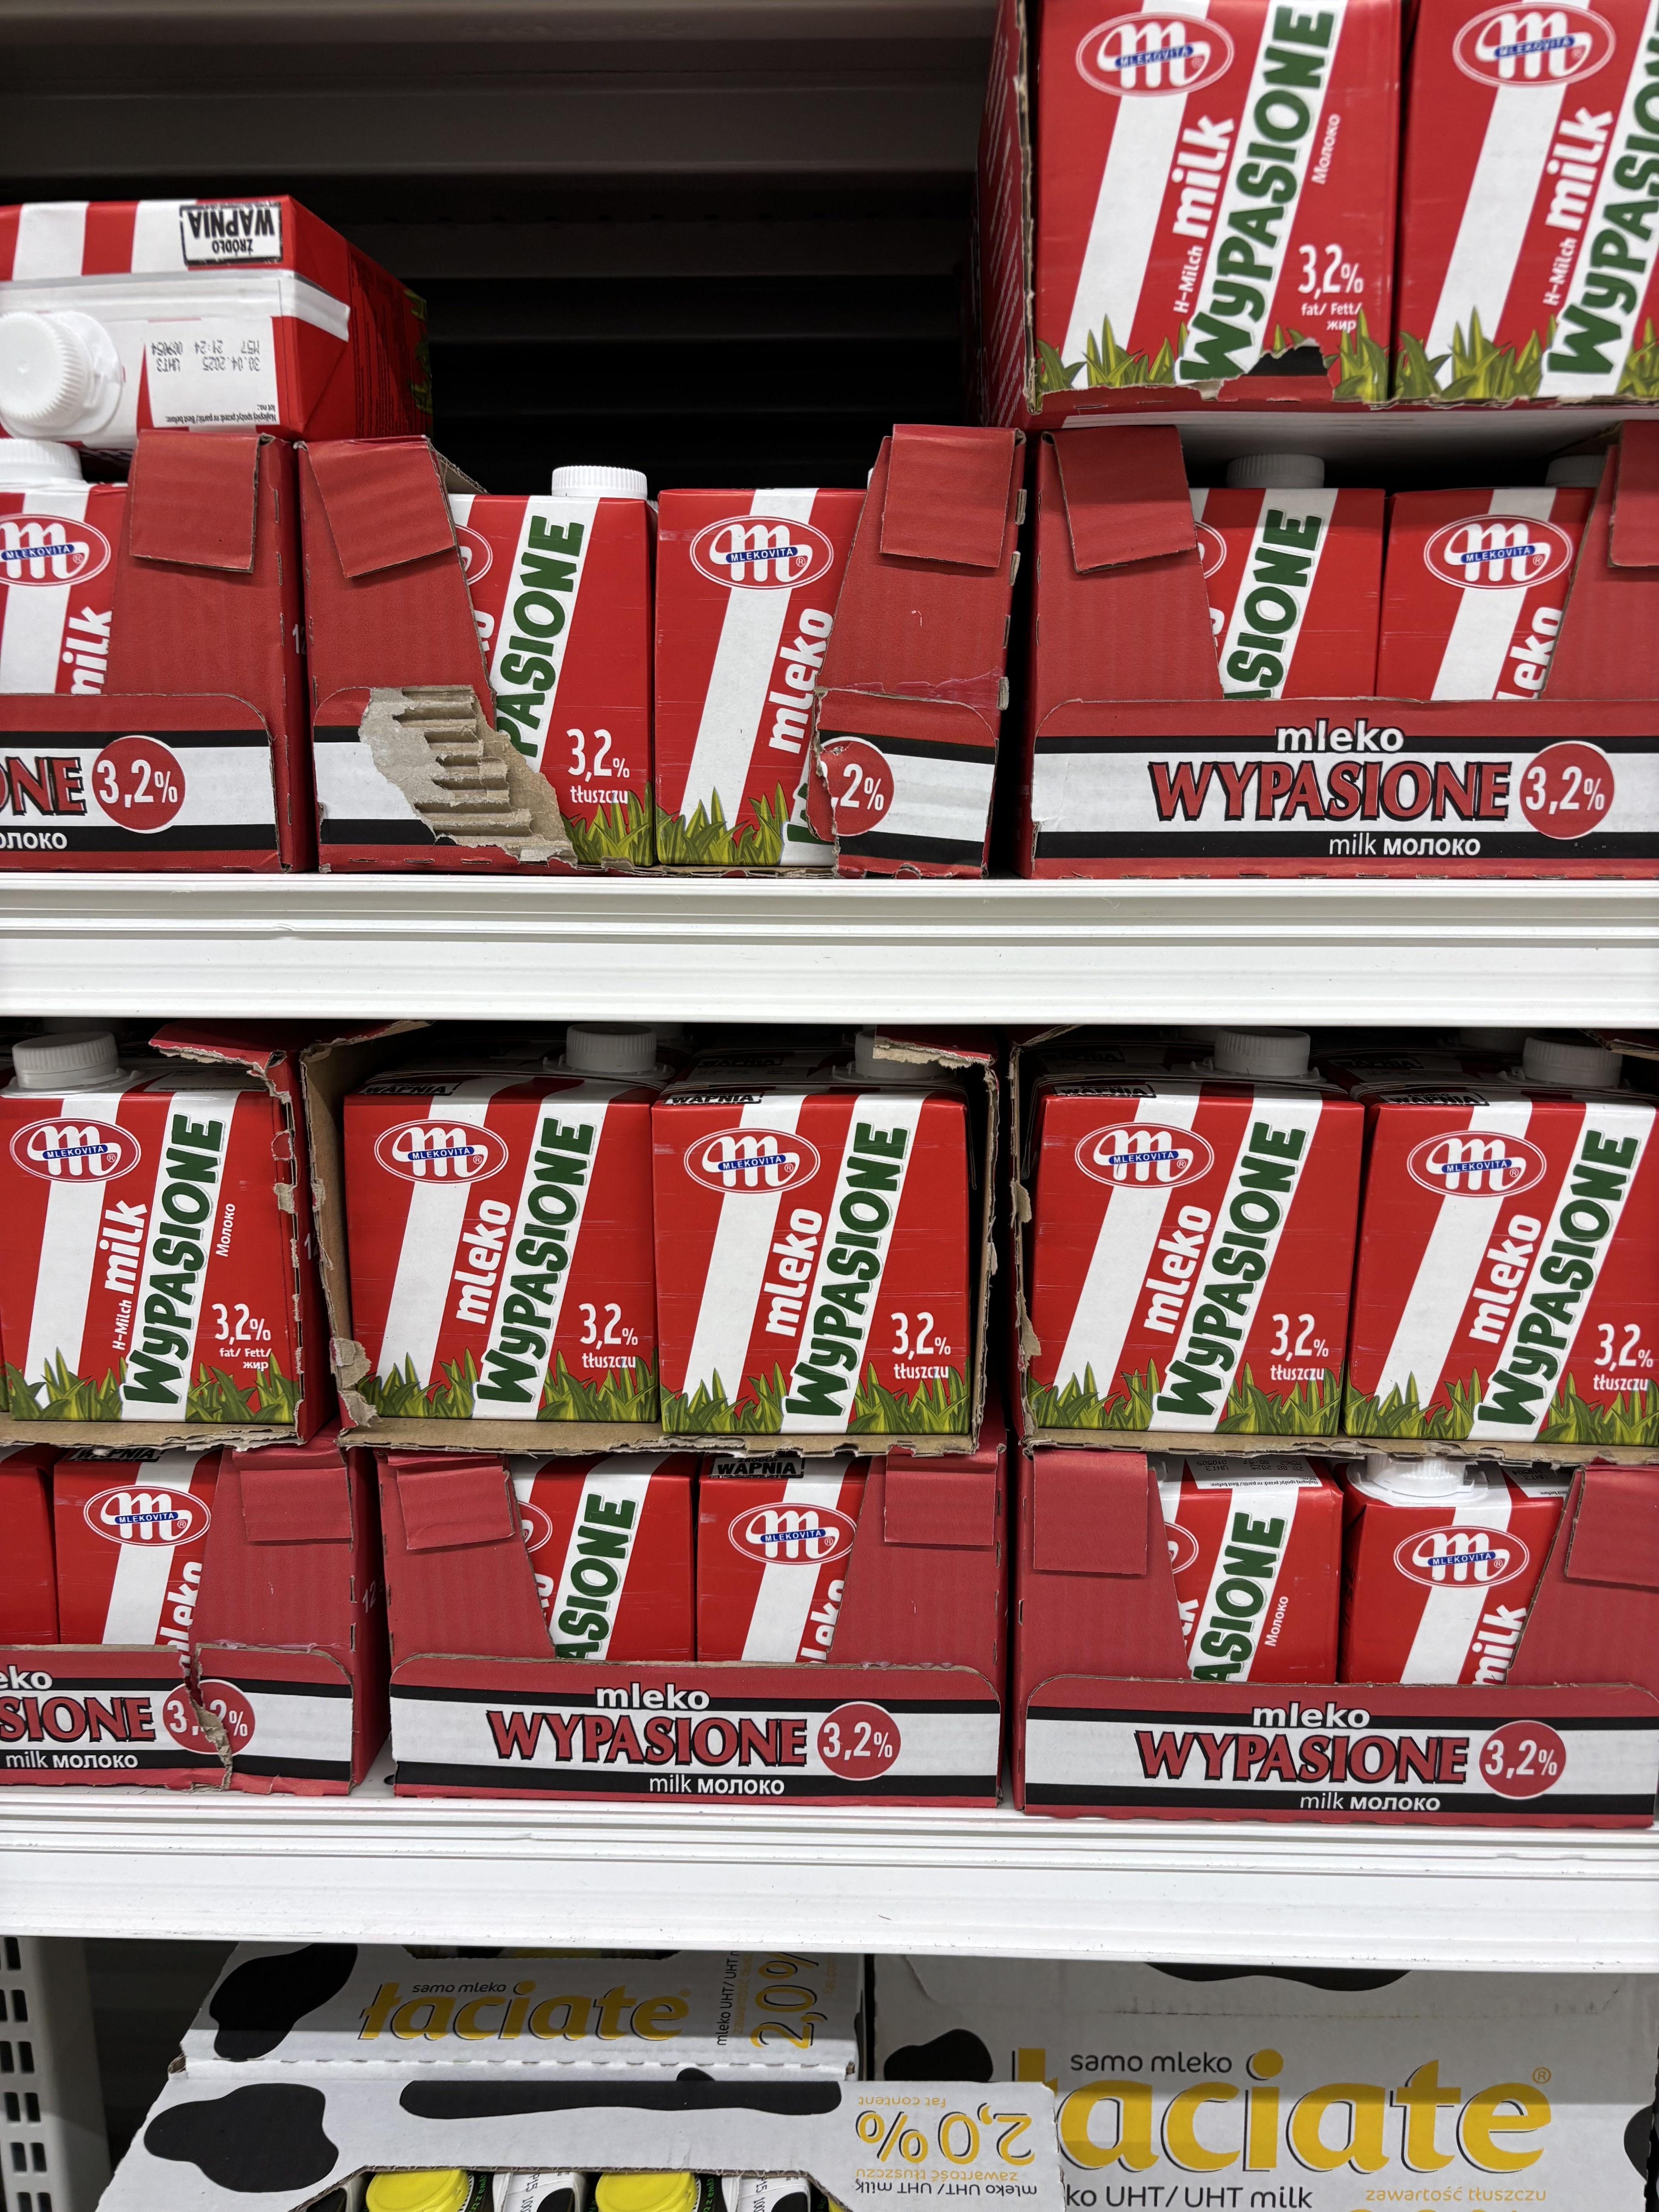Milk: (1032, 3, 1406, 401), (315, 1054, 666, 1453), (641, 1055, 983, 1458), (1019, 1068, 1345, 1480), (1363, 1078, 1659, 1460), (12, 1083, 281, 1420)
